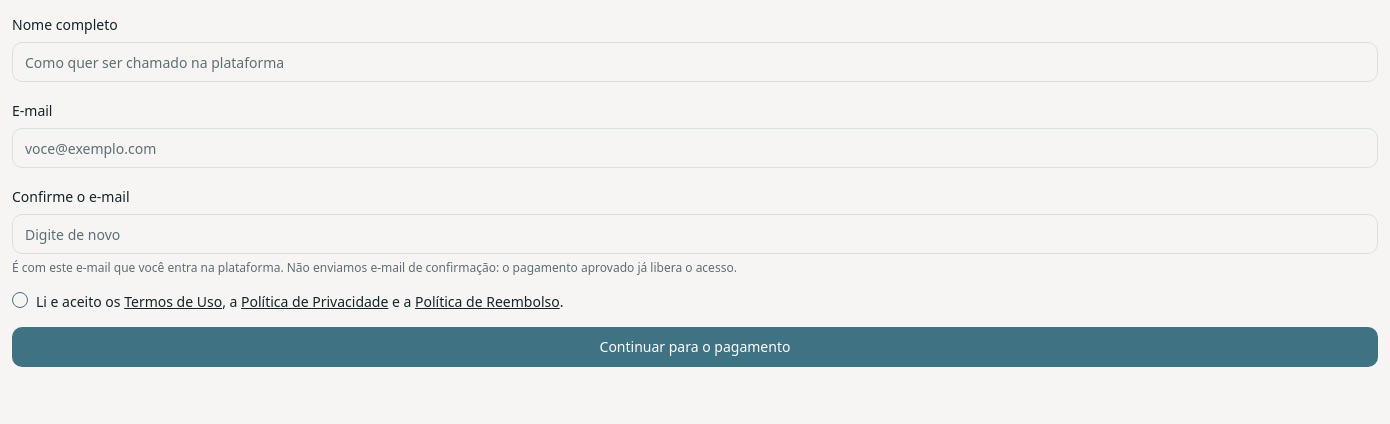
AccountStep › requires the terms and links to them
In the field labelled "Nome completo": (695, 62) [12,42,1378,82], type "Ana Souza"
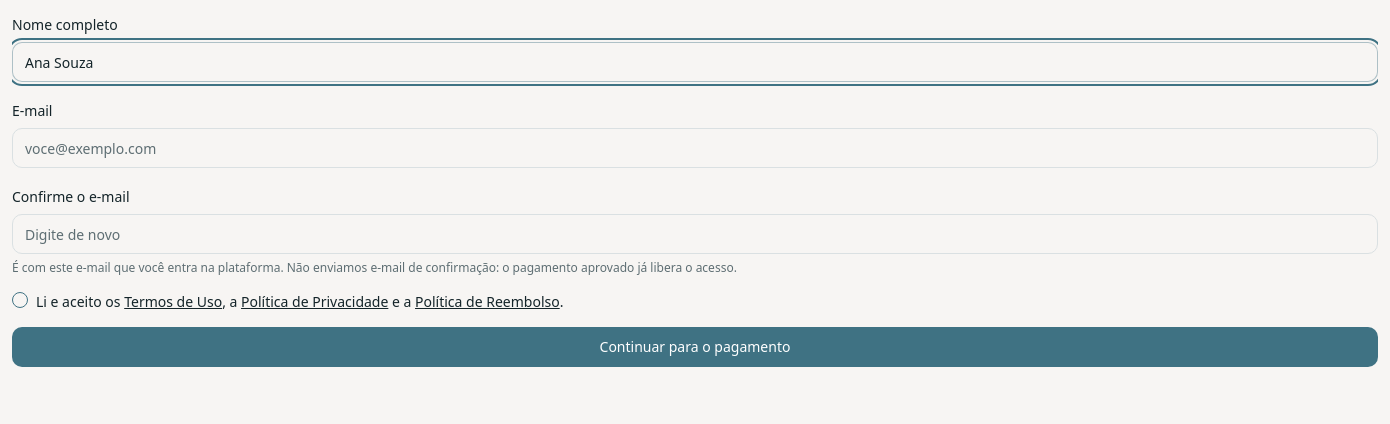
In the field labelled "E-mail": (695, 148) [12,128,1378,168], type "ana@example.com"
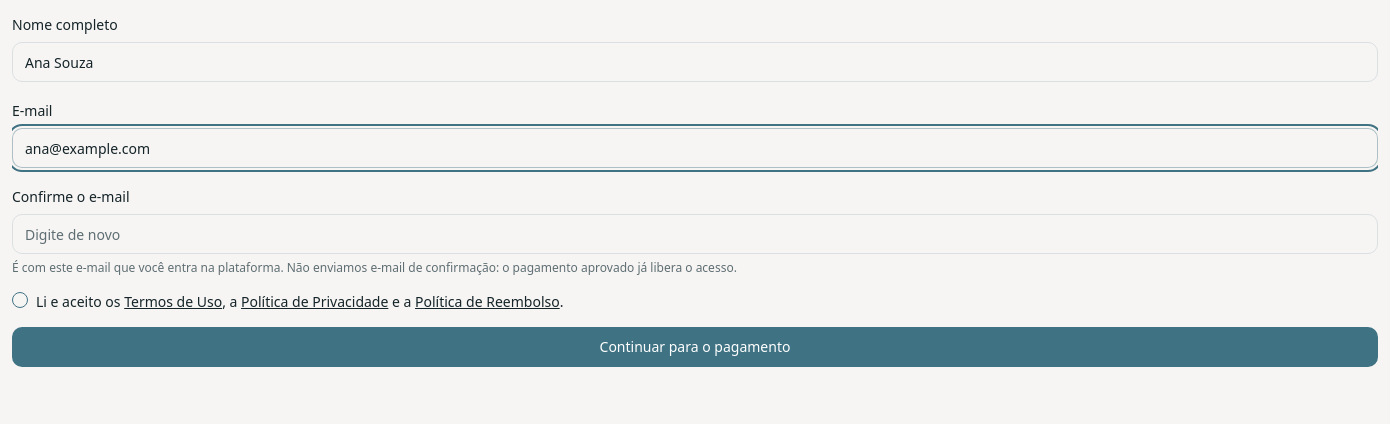
In the field labelled "Confirme o e-mail": (695, 234) [12,214,1378,254], type "ana@example.com"
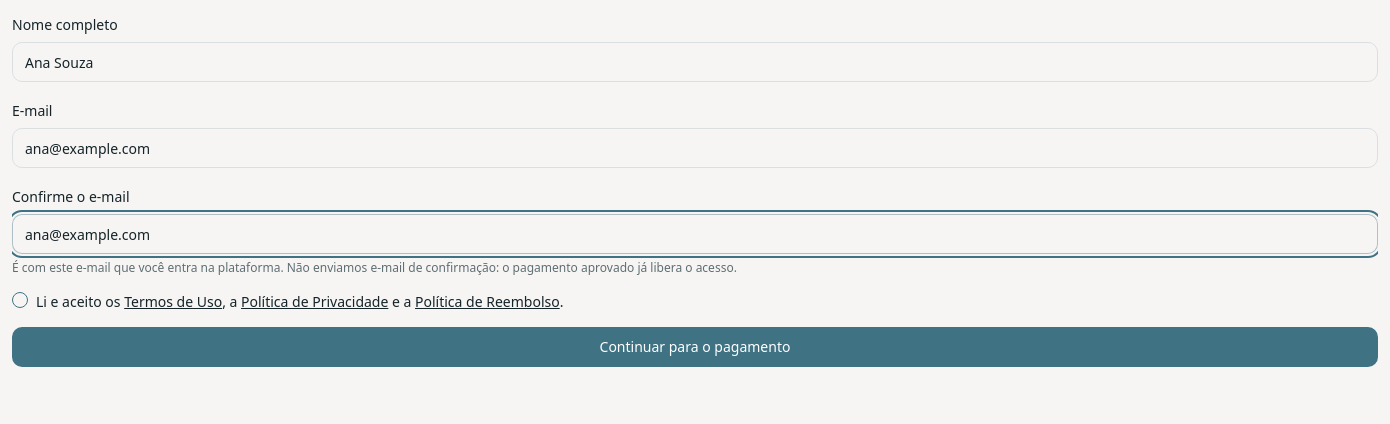
Click the button "Continuar para o pagamento": (695, 347) [12,327,1378,367]
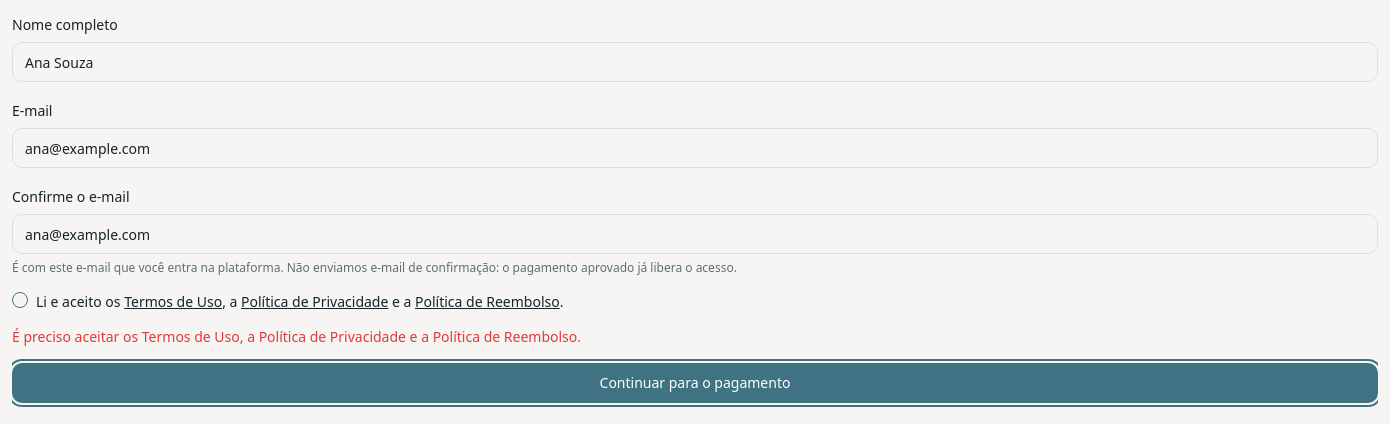
Now the message shows "Termos de Uso", box [12,327,581,346]
